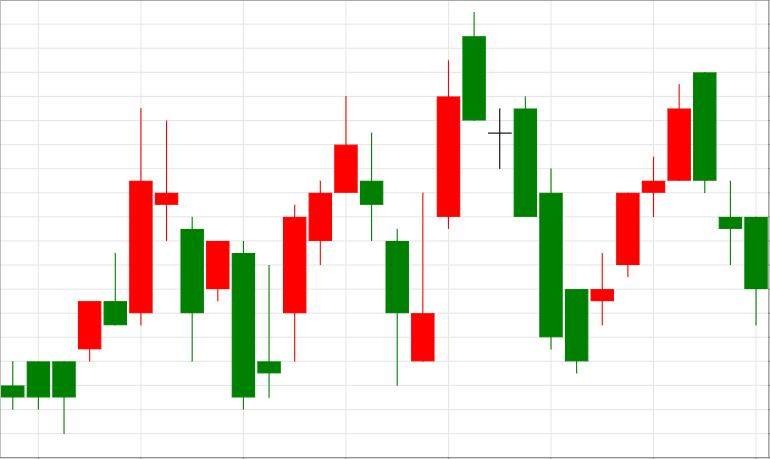bearish_engulfing_fall: (566, 71, 717, 373)
